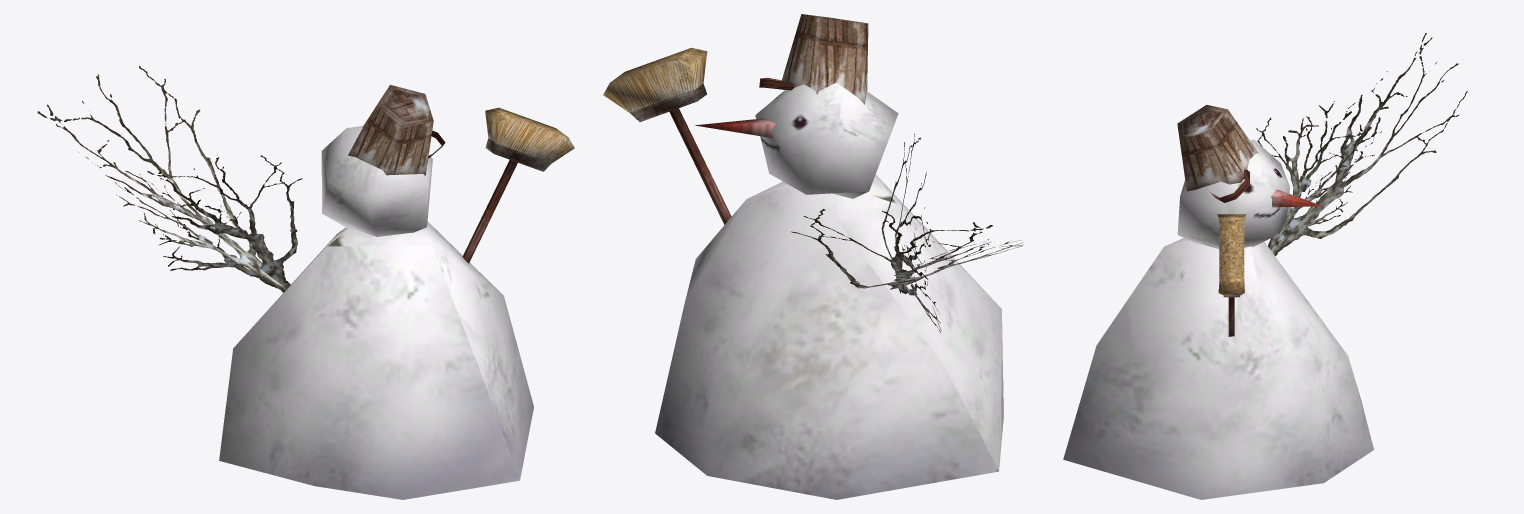
The model's file is environment_common_xueren_001_a.FBX.
3 views of the same model, side by side, from view 1: azimuth 30°, elevation 25°; view 2: azimuth 150°, elevation 25°; view 3: azimuth 270°, elevation 25° (orthographic). The views are drawn at different scales.
Parts seen in each view (by area): view 1: environment_common_xueren_001_a; view 2: environment_common_xueren_001_a; view 3: environment_common_xueren_001_a.
Boxes of the visible parts, x1,y1,x2,y2 form: environment_common_xueren_001_a: (37, 65, 574, 499); environment_common_xueren_001_a: (603, 14, 1023, 499); environment_common_xueren_001_a: (1063, 33, 1467, 499).
Bounding box in the file's own units: 133 × 97.02 × 119.
